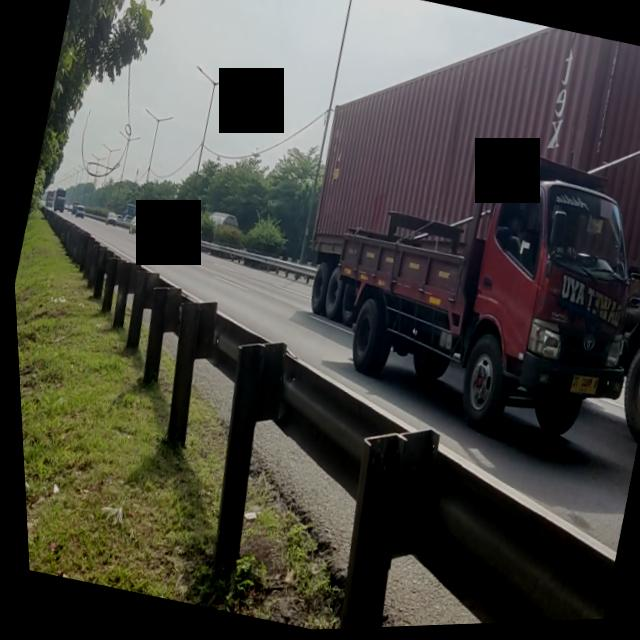Golongan II: (301, 107, 640, 468)
